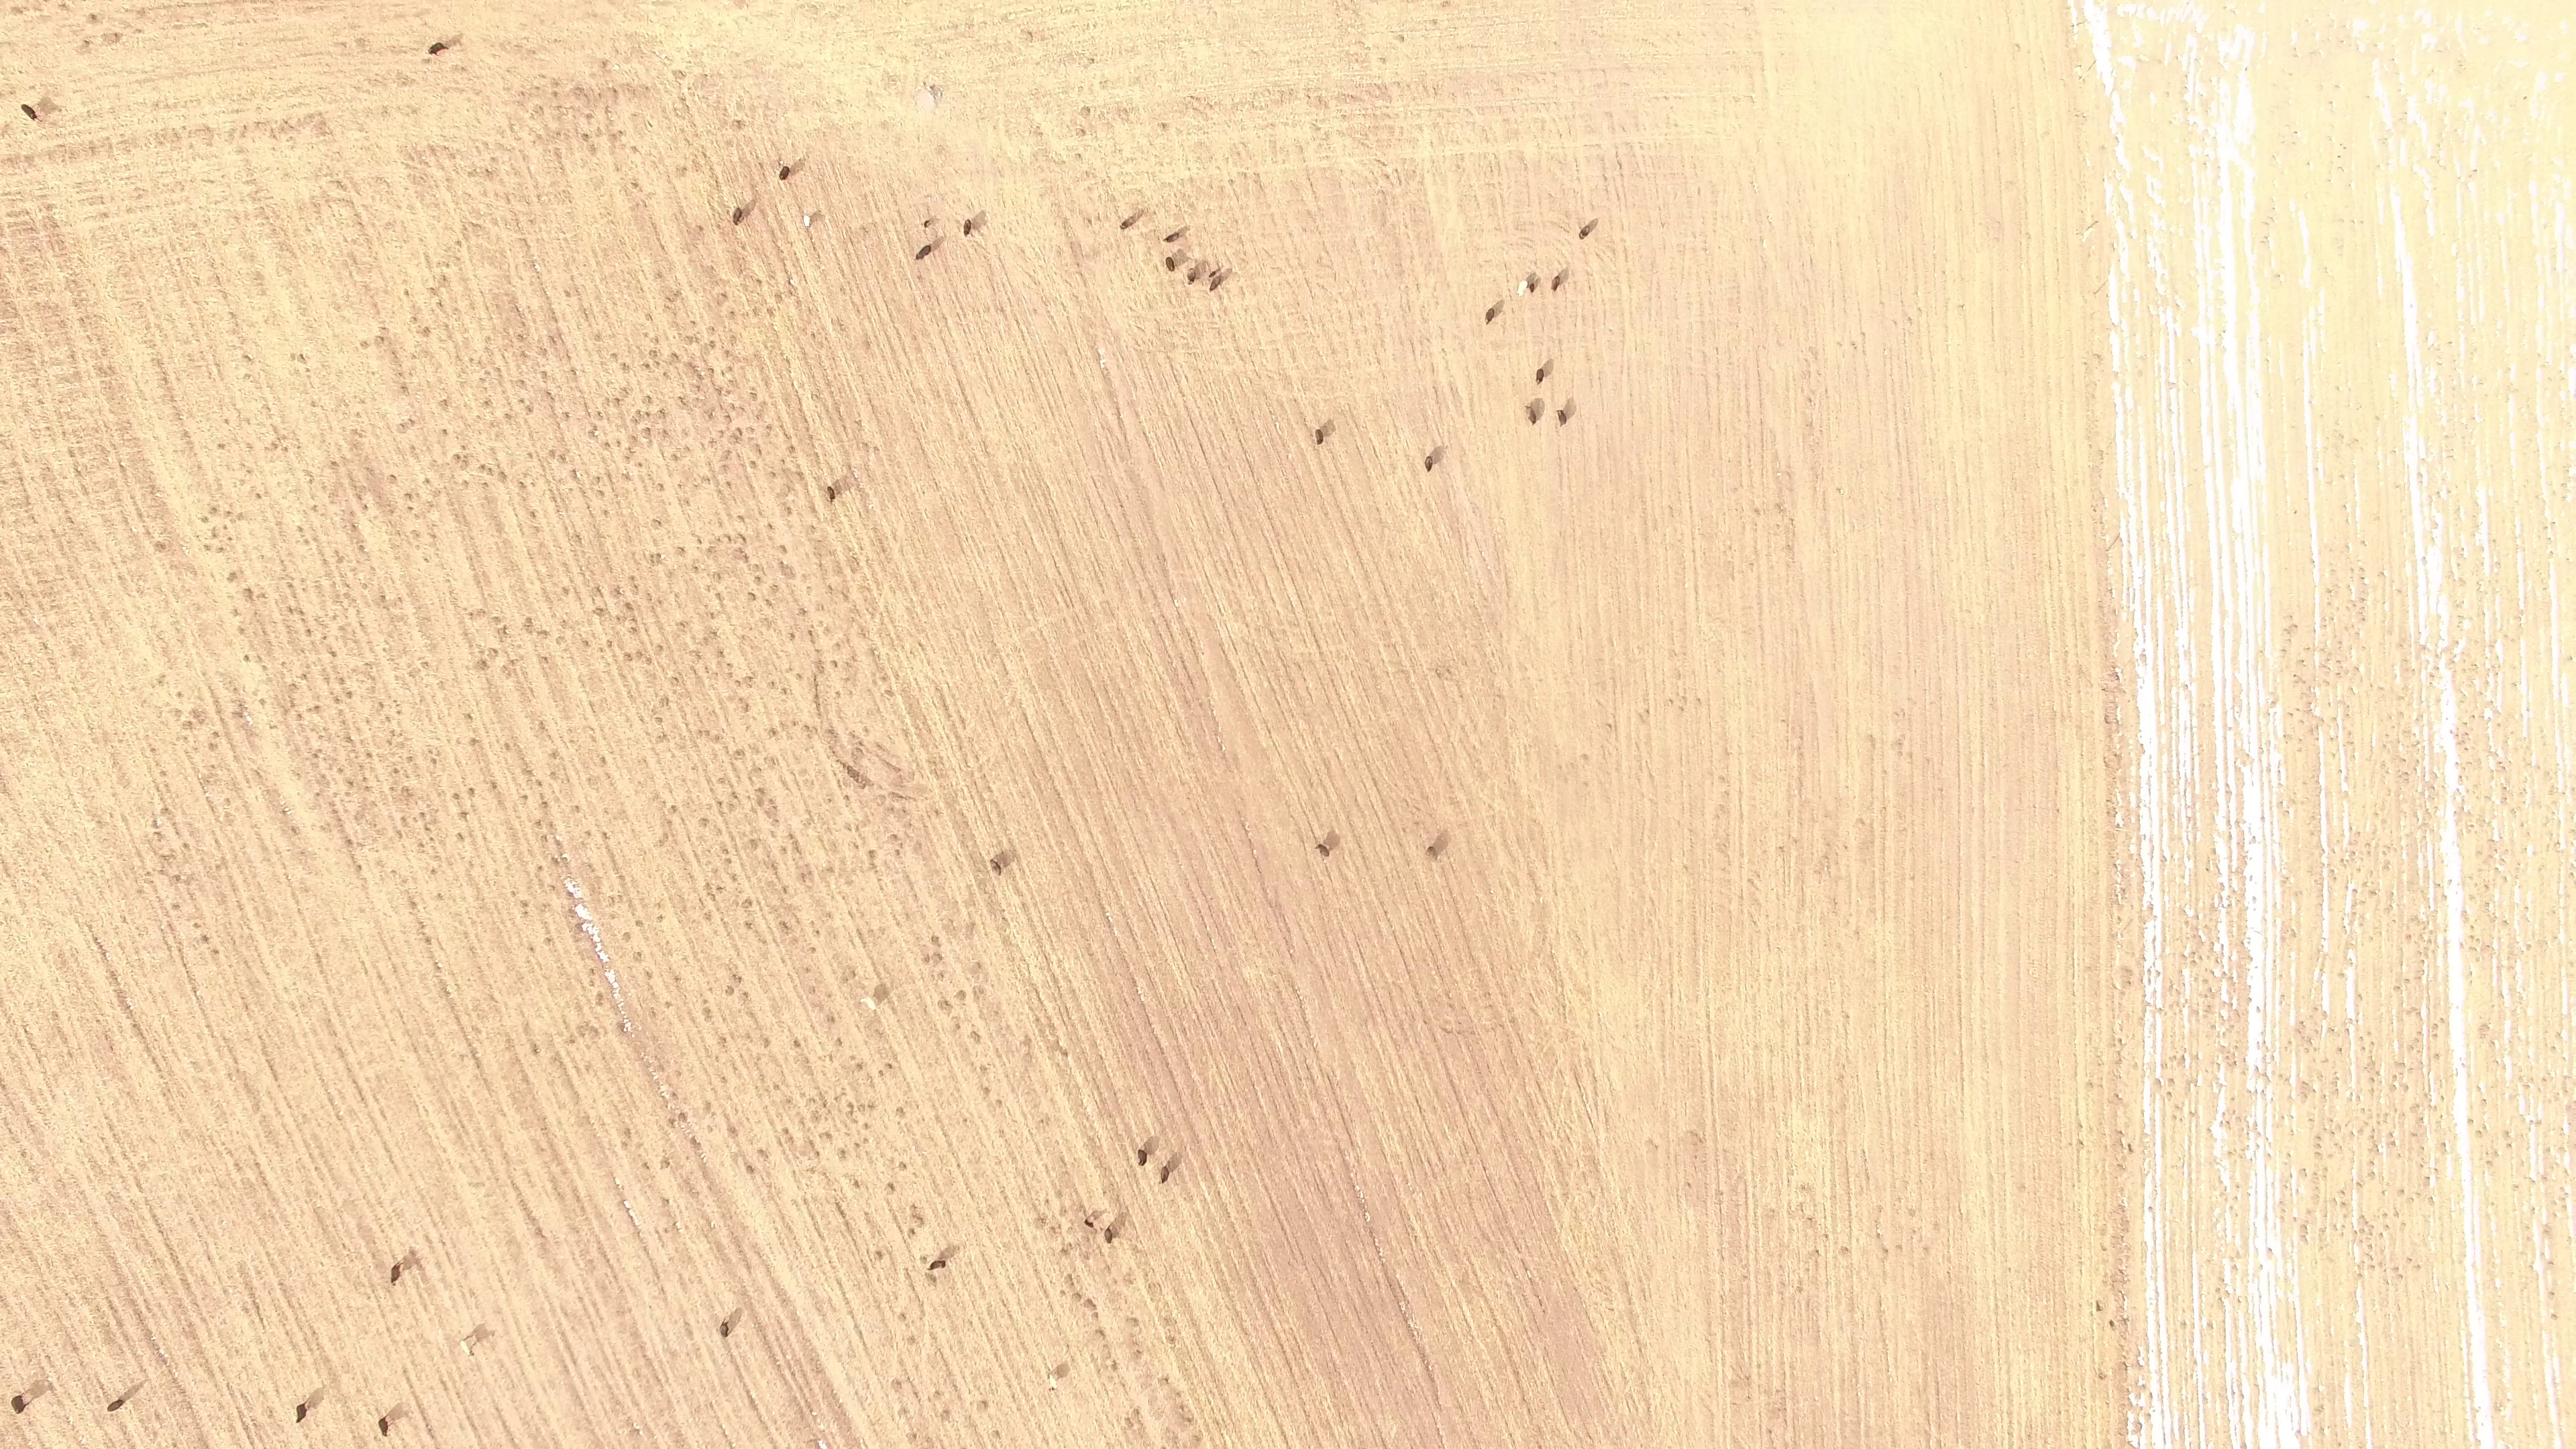sheep: (726, 203, 751, 228), (985, 855, 1008, 879), (104, 1395, 130, 1415), (926, 1255, 953, 1274), (425, 39, 452, 58), (8, 1392, 30, 1417), (293, 1399, 313, 1426), (1041, 1372, 1062, 1394), (912, 242, 936, 263), (1117, 212, 1140, 233), (18, 101, 40, 123), (1134, 1145, 1153, 1169), (458, 1336, 478, 1360), (387, 1260, 405, 1286), (820, 484, 842, 505), (1574, 222, 1597, 245), (716, 1318, 735, 1342), (1101, 1224, 1120, 1247), (1157, 1163, 1174, 1185), (1523, 403, 1542, 427), (1548, 271, 1566, 294), (375, 1415, 392, 1440), (1315, 840, 1334, 860), (1163, 254, 1181, 272), (1421, 453, 1438, 475), (1530, 365, 1548, 386), (960, 217, 978, 238), (776, 163, 794, 183), (1312, 425, 1328, 448), (1555, 405, 1572, 428), (1184, 266, 1200, 288), (1481, 307, 1498, 327), (1162, 229, 1183, 246), (798, 213, 817, 231), (1208, 274, 1225, 294), (1515, 276, 1529, 299), (1081, 1215, 1097, 1231), (920, 217, 934, 229), (1525, 280, 1538, 294), (1207, 268, 1218, 281)
unknown: (1424, 833, 1449, 861), (35, 95, 60, 117), (871, 981, 892, 1005), (27, 1380, 47, 1401), (1053, 1360, 1071, 1381), (471, 1323, 490, 1345), (386, 1405, 405, 1424), (574, 902, 593, 922), (843, 763, 863, 782), (687, 1134, 702, 1151), (1115, 1211, 1128, 1229), (833, 1199, 847, 1218), (924, 1271, 940, 1286), (565, 881, 577, 900), (675, 1110, 690, 1124), (864, 996, 878, 1012), (1083, 1296, 1097, 1310), (885, 1180, 898, 1194), (743, 1162, 757, 1177), (572, 919, 585, 933), (548, 854, 562, 869), (622, 599, 635, 613), (747, 1395, 759, 1411), (873, 1248, 885, 1263), (1175, 246, 1187, 262), (87, 11, 100, 26), (791, 1037, 804, 1051), (588, 1024, 601, 1036), (615, 1020, 628, 1032), (597, 950, 610, 963), (91, 934, 103, 949), (199, 932, 212, 945), (343, 836, 356, 849), (233, 708, 246, 721), (227, 569, 240, 582), (111, 31, 123, 45), (590, 927, 602, 944), (1181, 1414, 1195, 1426), (979, 1397, 991, 1411), (1108, 1360, 1120, 1373), (906, 1225, 918, 1236), (661, 1157, 673, 1169), (519, 900, 531, 910), (407, 898, 419, 910), (172, 872, 184, 884), (755, 785, 767, 798), (478, 657, 490, 669), (538, 627, 550, 638), (270, 440, 281, 452), (866, 847, 877, 861), (1095, 1326, 1107, 1338), (2106, 1318, 2118, 1330), (1090, 1309, 1102, 1320), (2093, 1301, 2104, 1314), (1065, 1271, 1075, 1284), (1061, 1246, 1071, 1257), (842, 1218, 852, 1230), (851, 1178, 862, 1191), (838, 1147, 849, 1159), (755, 1146, 767, 1158), (982, 1085, 993, 1097), (885, 1061, 896, 1072), (1060, 1049, 1071, 1059), (122, 1002, 133, 1013), (606, 971, 617, 981), (931, 934, 942, 946), (743, 920, 754, 932), (417, 809, 428, 820), (755, 795, 766, 807), (450, 790, 462, 802), (466, 785, 478, 798), (468, 735, 480, 747), (344, 689, 355, 701), (523, 614, 535, 627), (244, 585, 255, 598), (356, 542, 367, 553), (157, 541, 169, 553), (209, 530, 221, 541), (328, 458, 340, 470), (215, 441, 227, 451), (377, 333, 388, 344), (439, 273, 450, 284), (696, 223, 706, 235), (82, 38, 93, 50), (134, 7, 146, 17), (13, 5, 24, 16), (2239, 1439, 2249, 1449), (909, 1430, 920, 1441), (942, 1407, 952, 1417), (1177, 1402, 1187, 1412), (893, 1378, 904, 1389), (2118, 1315, 2129, 1325), (250, 1299, 260, 1309), (920, 1254, 930, 1265), (1048, 1224, 1059, 1234), (917, 1218, 927, 1228), (914, 1213, 924, 1224), (1091, 1212, 1102, 1222), (2125, 1141, 2135, 1151), (2438, 1139, 2449, 1149), (806, 1137, 816, 1148), (666, 1116, 677, 1127), (876, 1067, 886, 1077), (529, 1045, 540, 1056), (567, 1036, 578, 1046), (828, 1014, 838, 1025), (942, 998, 952, 1009), (117, 997, 127, 1007), (956, 987, 966, 998), (727, 985, 737, 997), (610, 979, 621, 991), (422, 935, 432, 946), (566, 906, 578, 917), (745, 899, 755, 909), (574, 888, 584, 898), (703, 881, 713, 891), (798, 871, 808, 881), (428, 867, 438, 877), (354, 862, 364, 872), (180, 841, 191, 851), (890, 831, 900, 842), (289, 825, 299, 835), (2113, 821, 2123, 831), (892, 790, 902, 800), (404, 790, 414, 800), (489, 782, 499, 792), (535, 779, 545, 789), (525, 767, 535, 778), (839, 759, 849, 769), (598, 756, 608, 766), (364, 750, 375, 761), (548, 749, 559, 760), (148, 745, 158, 755), (206, 741, 217, 752), (464, 711, 474, 721), (741, 704, 751, 714), (311, 702, 322, 714), (811, 692, 822, 702), (645, 655, 655, 665), (242, 653, 252, 664), (328, 648, 338, 659), (605, 641, 615, 651), (806, 628, 816, 638), (378, 592, 389, 603), (653, 550, 663, 560), (570, 472, 580, 482), (478, 462, 488, 472), (612, 395, 623, 405), (162, 377, 172, 388), (643, 361, 653, 371), (630, 180, 641, 191), (1078, 126, 1089, 137), (1159, 120, 1169, 130), (1083, 105, 1093, 115), (550, 89, 561, 99), (600, 58, 610, 69), (817, 1441, 830, 1449), (668, 802, 678, 813), (185, 718, 195, 730), (1167, 1334, 1177, 1345), (1130, 1316, 1140, 1326), (900, 1162, 910, 1172), (782, 1126, 792, 1138), (729, 1126, 739, 1136), (845, 1100, 855, 1110), (784, 1096, 794, 1106), (2166, 1075, 2177, 1085), (2178, 1053, 2188, 1064), (741, 989, 751, 999), (735, 974, 745, 984), (2123, 966, 2133, 976), (935, 952, 945, 963), (99, 949, 109, 959), (2404, 932, 2414, 942), (782, 922, 792, 932), (633, 918, 644, 928), (172, 902, 182, 912), (157, 867, 167, 877), (535, 863, 545, 873), (346, 778, 356, 789), (390, 765, 400, 776), (429, 756, 439, 766), (311, 751, 321, 761), (503, 743, 513, 753), (824, 727, 835, 737), (191, 708, 201, 719), (813, 700, 823, 712), (303, 626, 314, 636), (286, 606, 296, 616), (286, 581, 296, 591), (199, 515, 209, 525), (210, 505, 220, 517), (499, 472, 509, 482), (440, 426, 450, 437), (590, 423, 600, 434), (643, 409, 653, 419), (619, 364, 629, 374), (734, 117, 744, 127), (927, 83, 938, 93), (1073, 1291, 1083, 1301), (640, 1160, 650, 1170), (130, 1020, 140, 1030), (541, 654, 551, 664)
